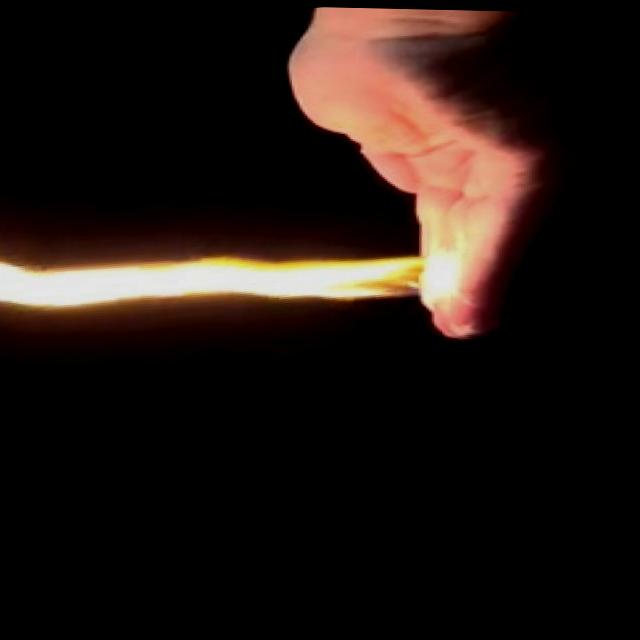Fire: (0, 203, 477, 350)
